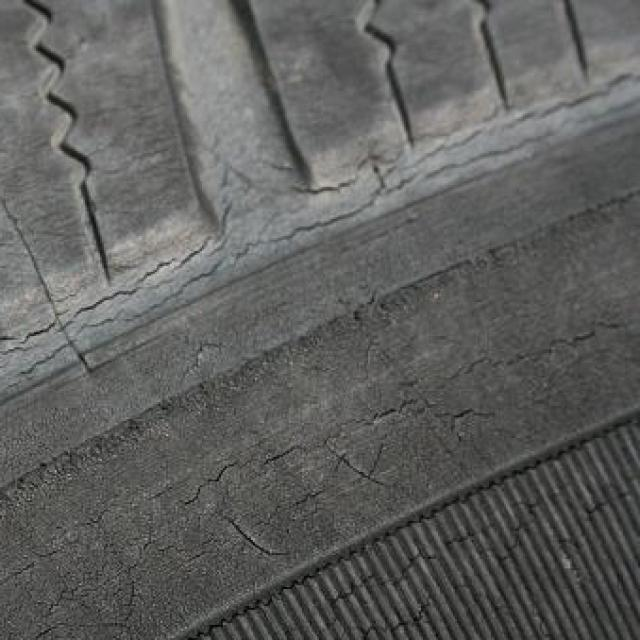Cracks: (0, 40, 638, 640)
